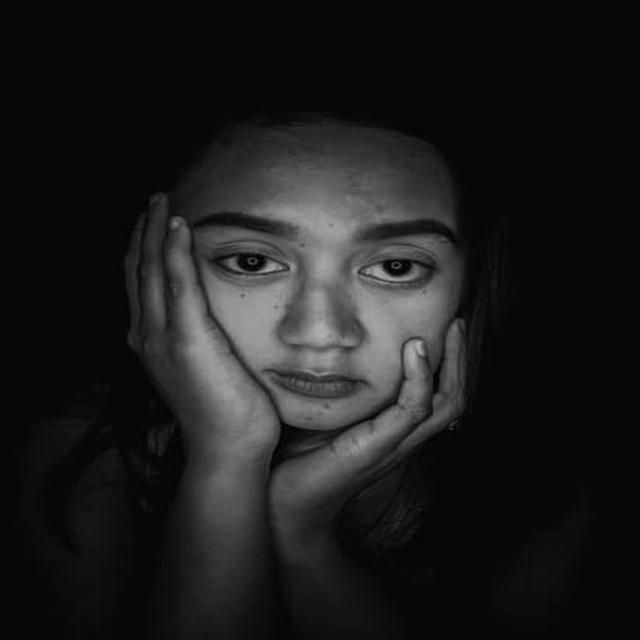Sadness: (197, 126, 455, 432)
